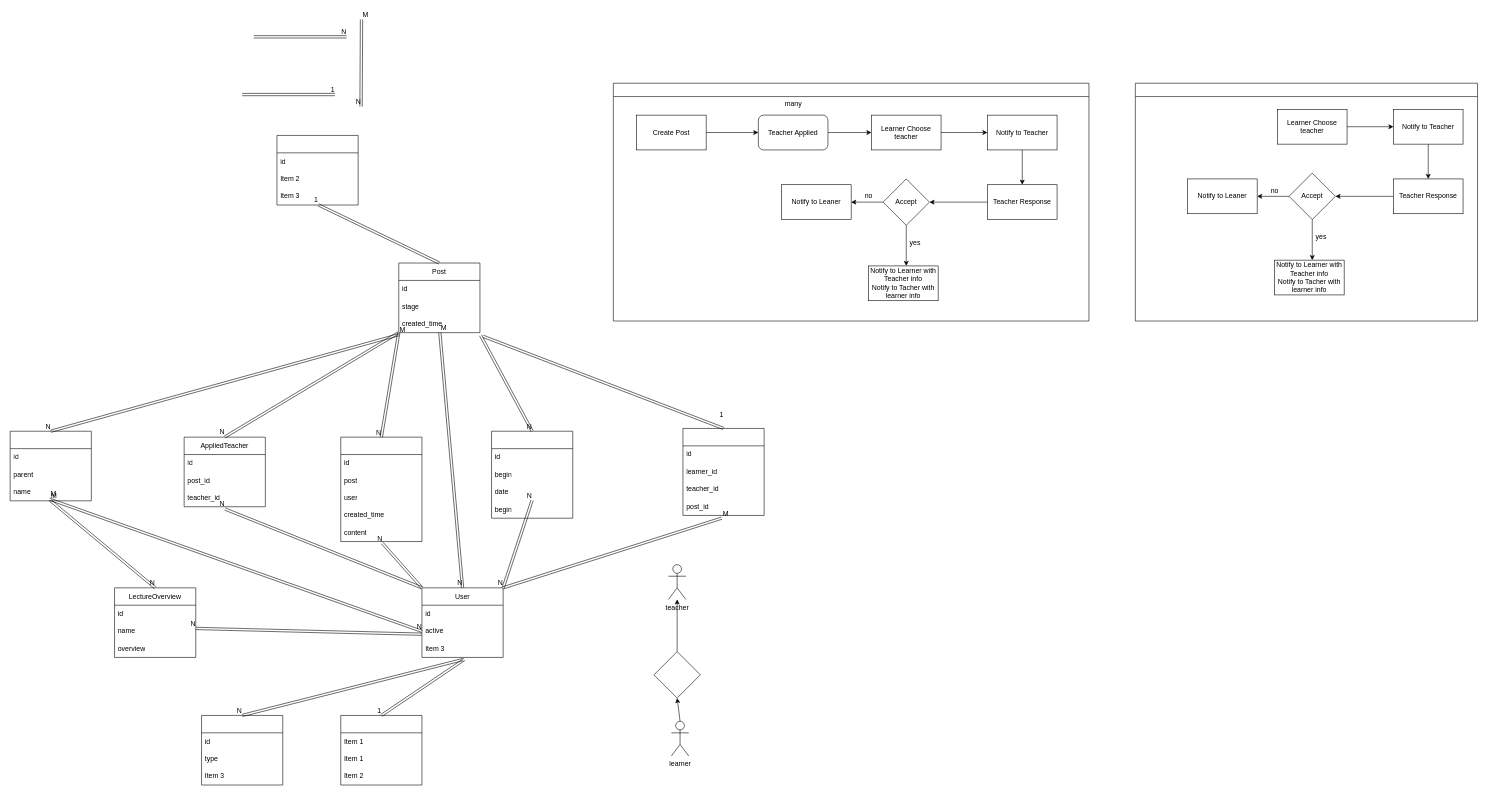
Image size: 1488x795. Some labels were removed from this diagram. Here are the shapes that lost their labels. From the top down, the box of each, then its label:
(276, 135, 358, 205): PostDetail
(613, 83, 1089, 321): regular flow
(1135, 83, 1478, 321): request flow
(10, 431, 91, 501): Subject
(491, 431, 573, 518): TimeRange
(682, 428, 764, 515): RequestTeaching
(340, 437, 422, 542): Review
(653, 651, 700, 698): teaching condition
(201, 715, 283, 785): Cert
(340, 715, 422, 785): Profile
